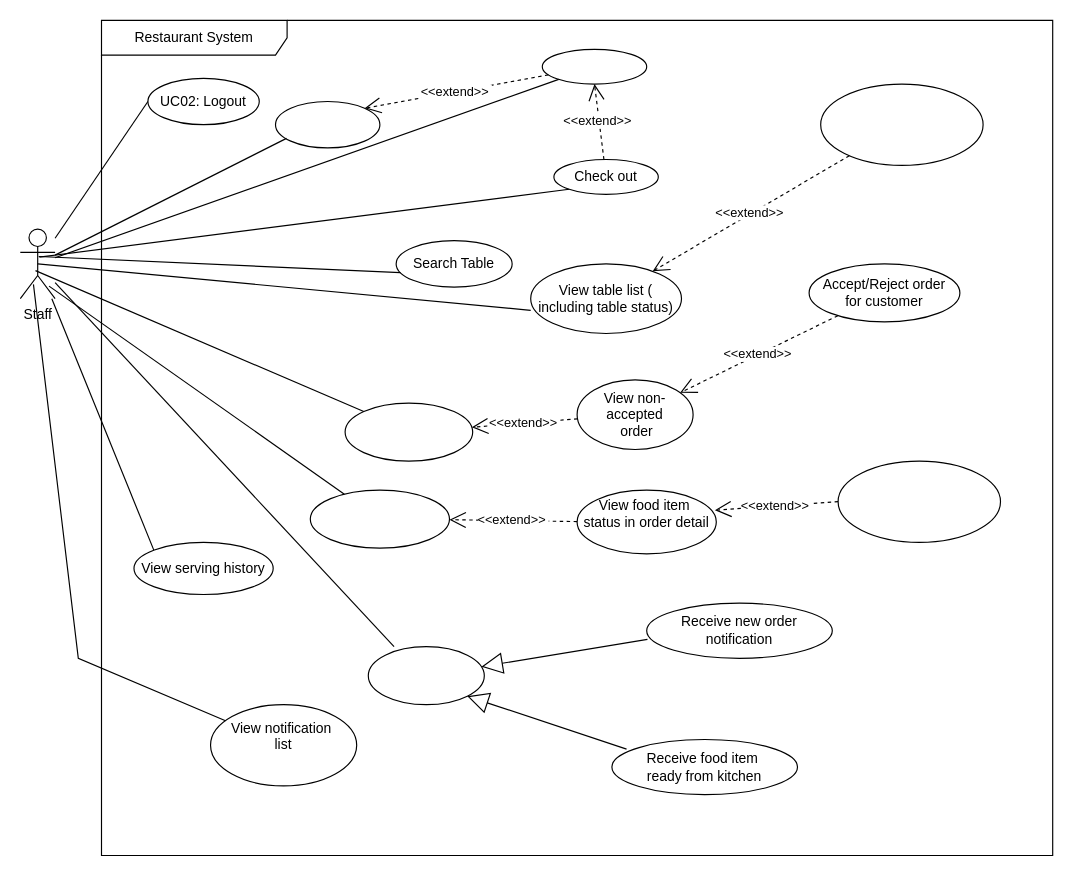
This 1073x876 diagram has some shape labels left out. The shapes that lost their labels are listed below. From the top down, each one's box as (x1, y1, x2, y2) in pixels, then its label:
(541, 48, 647, 84): Check-in
(274, 100, 380, 148): UC01: Login
(820, 83, 983, 165): View table detail (associated with what order and customer )
(344, 402, 473, 461): View requested order list
(309, 489, 449, 548): View serving order list
(837, 460, 1000, 542): Update food status from Ready -> Served, Doing-> Ready
(367, 646, 484, 705): Receive notification
